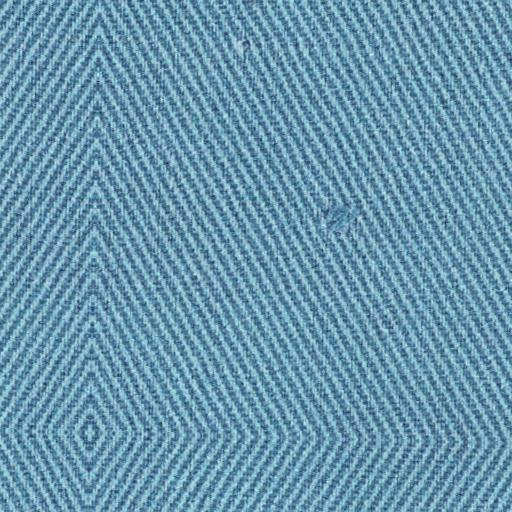knot: (311, 193, 369, 244)
